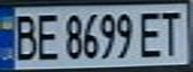6: (81, 10, 100, 61)
8: (60, 11, 84, 61)
9: (115, 9, 139, 60), (97, 10, 118, 60)
B: (9, 11, 39, 62)
E: (136, 8, 166, 60), (33, 10, 60, 62)
T: (157, 7, 187, 57)
